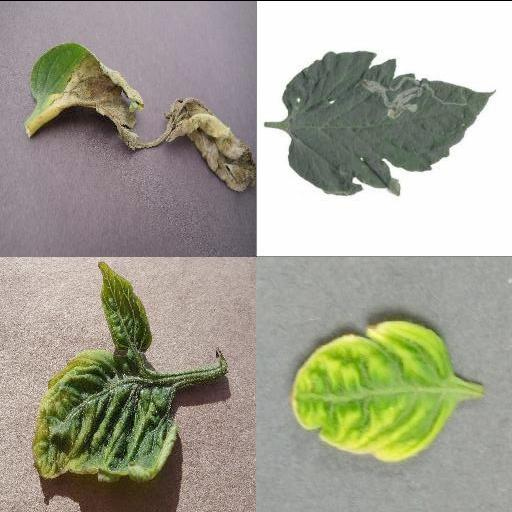Late Blight: (28, 42, 256, 190)
Leaf Miner: (281, 50, 495, 198)
Yellow Leaf Curl Virus: (33, 261, 179, 481), (291, 318, 451, 460)
